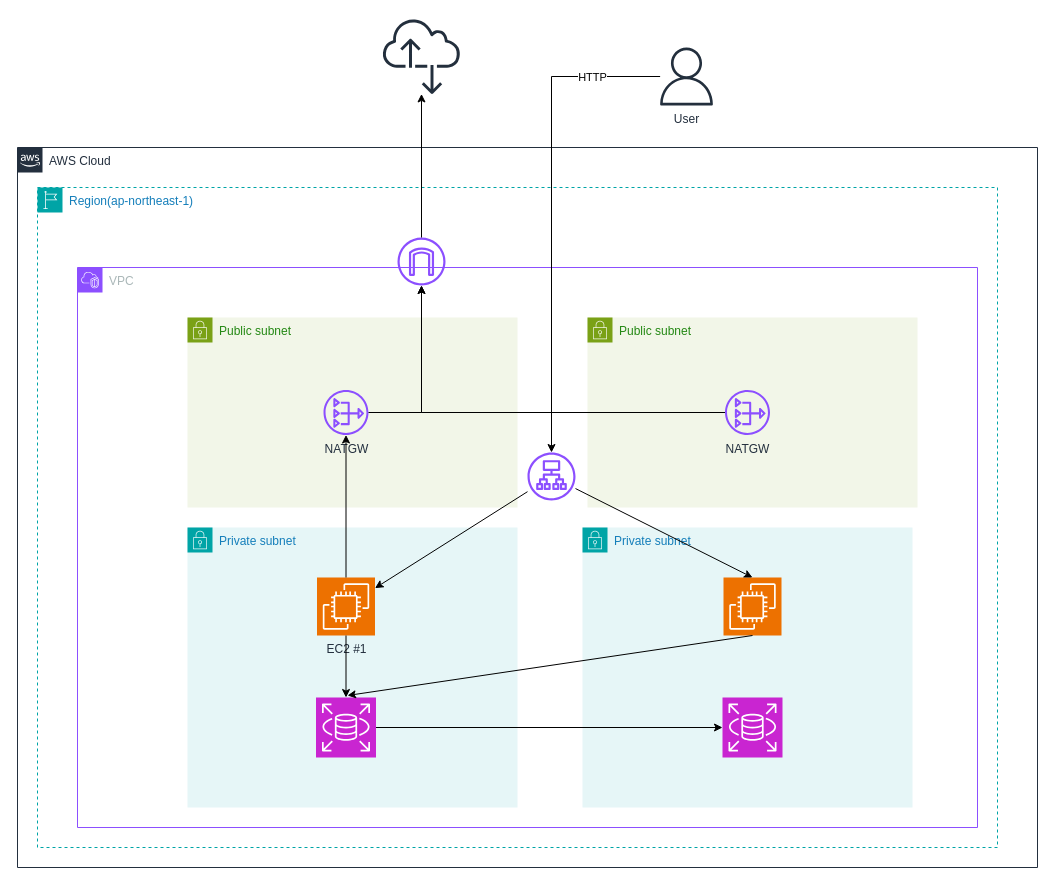
Image size: 1055x885. Some labels were removed from this diagram. Here are the shapes that lost their labels. From the top down, the centre of each, then its label:
(421,261): IGW
(551,476): ALB
(752,606): EC2 #2
(345,727): RDS #1
(752,727): RDS #2
